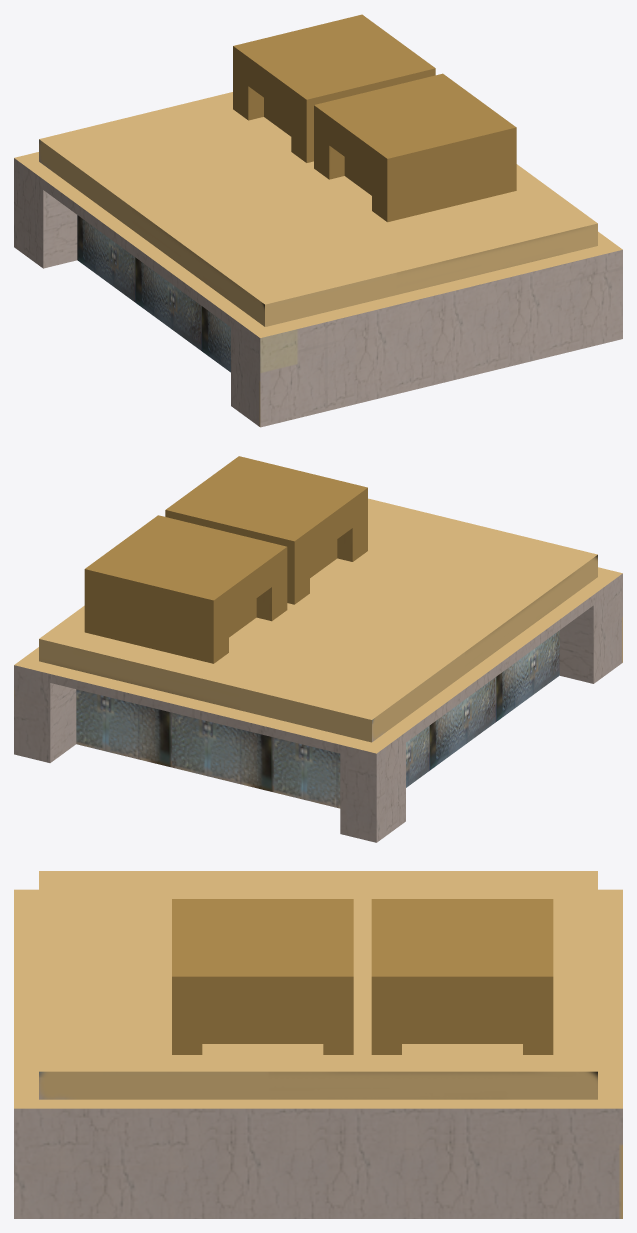
The model's file is SmallBuilding_GlassDoors.fbx.
3 views of the same model, one above another, from view 1: azimuth 30°, elevation 25°; view 2: azimuth 150°, elevation 25°; view 3: azimuth 270°, elevation 25° (orthographic). The views are drawn at different scales.
Visible parts, largest first — view 1: pasted__pCube5; view 2: pasted__pCube5; view 3: pasted__pCube5.
Part boxes in pixels (x1=…): pasted__pCube5: x1=14, y1=14, x2=622, y2=427; pasted__pCube5: x1=14, y1=456, x2=622, y2=842; pasted__pCube5: x1=14, y1=871, x2=622, y2=1218.
Bounding box in the file's own units: 17 × 7.85 × 20.
